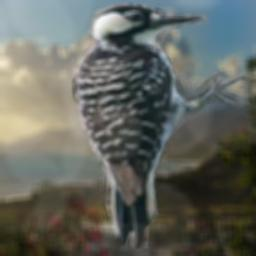Woodpecker: (66, 2, 253, 249)
